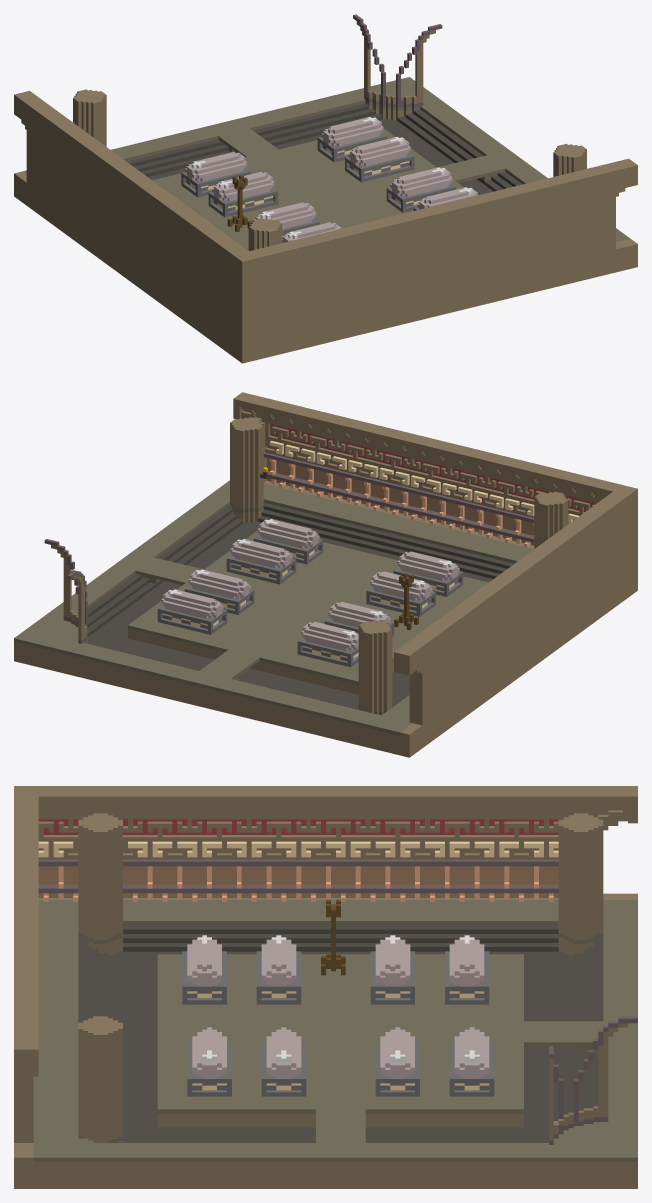
Rendered from casketroom-0.obj.
3 renders of one model, top to bottom at view 1: azimuth 30°, elevation 25°; view 2: azimuth 150°, elevation 25°; view 3: azimuth 270°, elevation 25°, orthographic. The views are drawn at different scales.
Size of the model in its own units: 12.6 by 3.1 by 12.6.
Materials: 1 (1 with a texture image).
